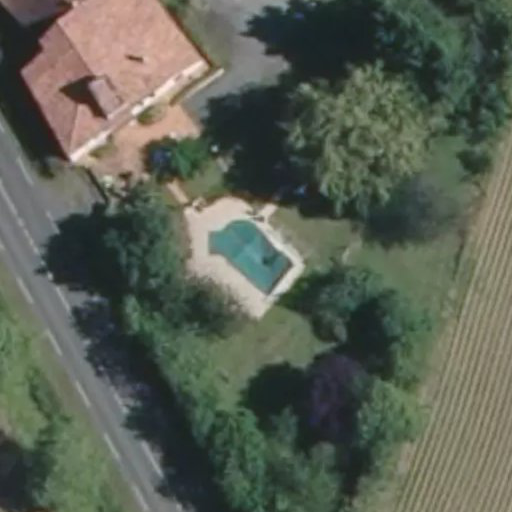pool: (213, 232, 303, 247)
